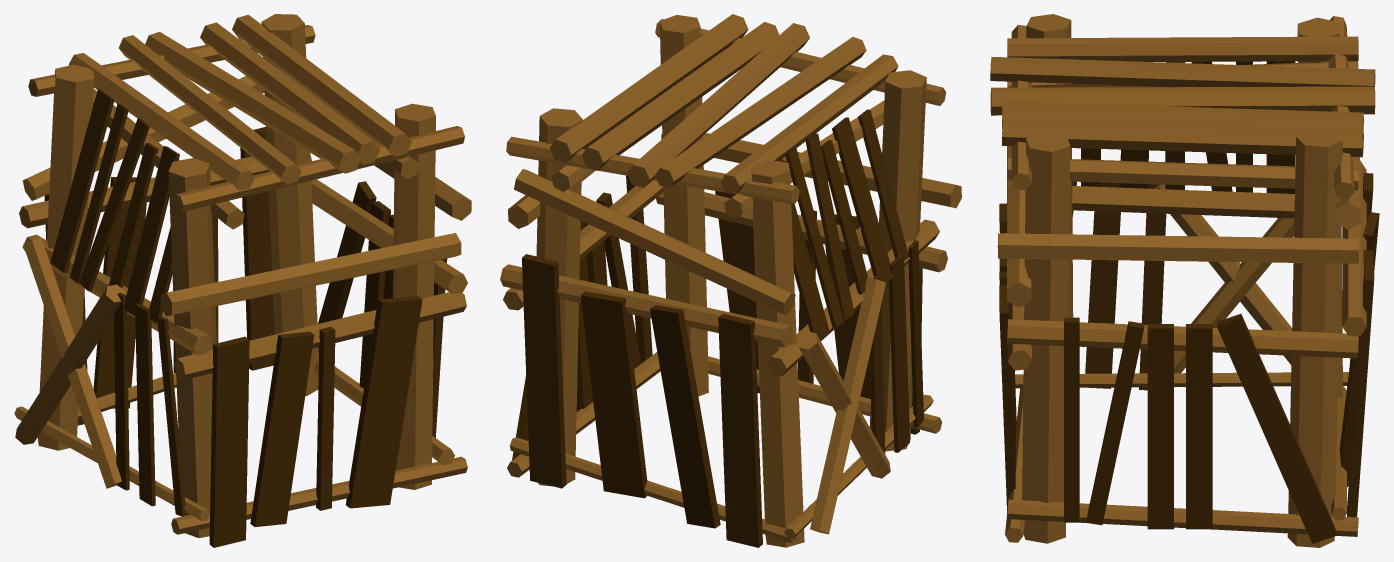
File: Cage.fbx
3 renders of one model, left to right at view 1: azimuth 30°, elevation 25°; view 2: azimuth 150°, elevation 25°; view 3: azimuth 270°, elevation 25°, orthographic. The views are drawn at different scales.
Visible parts, largest first — view 1: defaultMaterial; view 2: defaultMaterial; view 3: defaultMaterial.
Boxes of the visible parts, bbox=[...] form: defaultMaterial: bbox=[14, 14, 471, 547]; defaultMaterial: bbox=[500, 14, 961, 547]; defaultMaterial: bbox=[990, 14, 1379, 547].
Bounding box in the file's own units: 177 × 200 × 176.
